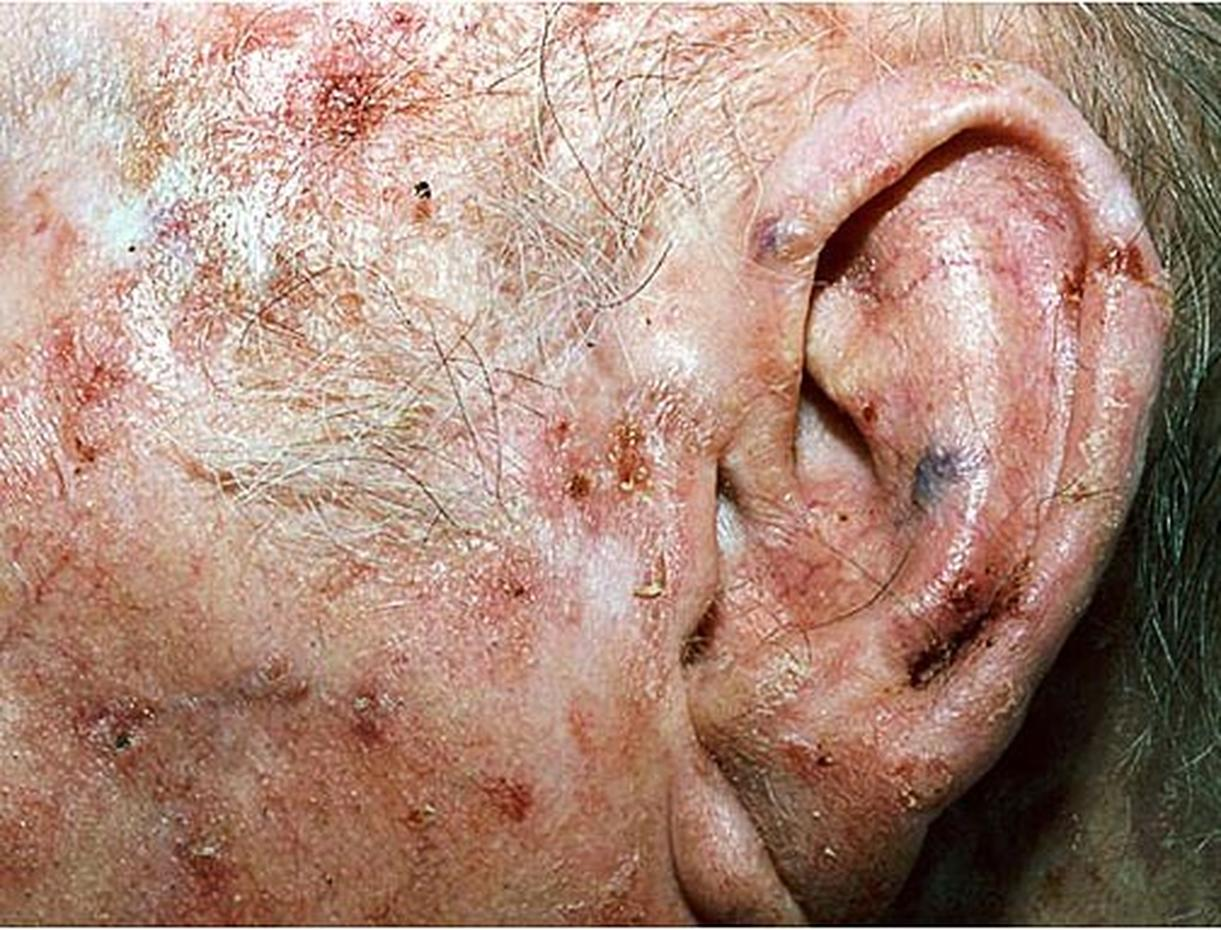Actinic Keratosis: (24, 15, 1161, 930)
